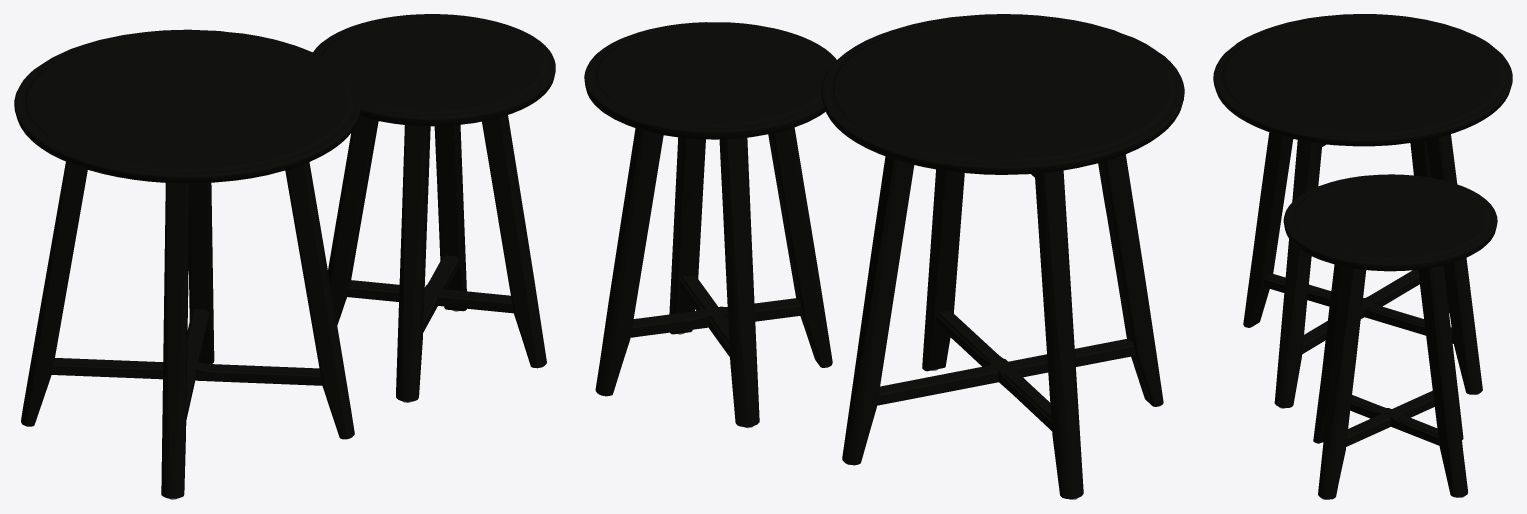
Rendered from kragsta_stoliki_2_szt_00299825.glb.
The picture shows the model from 3 angles, left to right: view 1: azimuth 30°, elevation 25°; view 2: azimuth 150°, elevation 25°; view 3: azimuth 270°, elevation 25°; orthographic projection. The views are drawn at different scales.
Visible parts, largest first — view 1: kragsta_stoliki_2_szt_00299825; view 2: kragsta_stoliki_2_szt_00299825; view 3: kragsta_stoliki_2_szt_00299825.
Boxes of the visible parts, x1,y1,x2,y2 form: kragsta_stoliki_2_szt_00299825: (14, 14, 555, 499); kragsta_stoliki_2_szt_00299825: (584, 14, 1184, 499); kragsta_stoliki_2_szt_00299825: (1213, 14, 1512, 499).
Size of the model in its own units: 0.8432 by 0.513 by 0.4899.
1 material, 1 textured.
